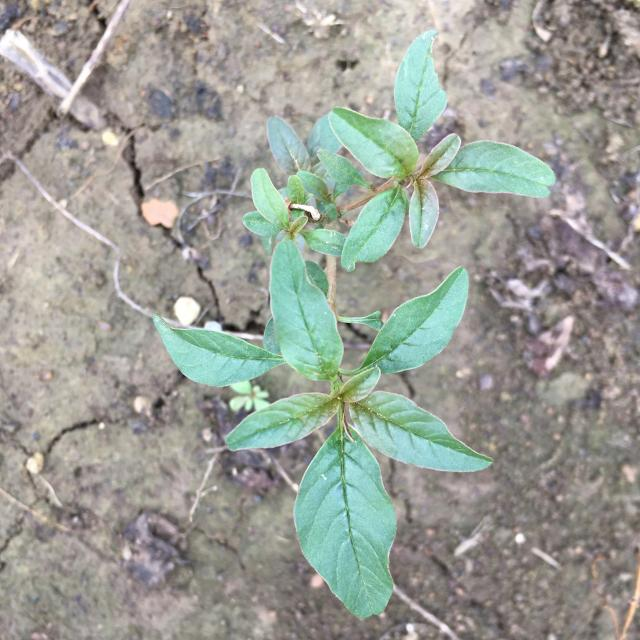Waterhemp: (152, 29, 556, 618)
